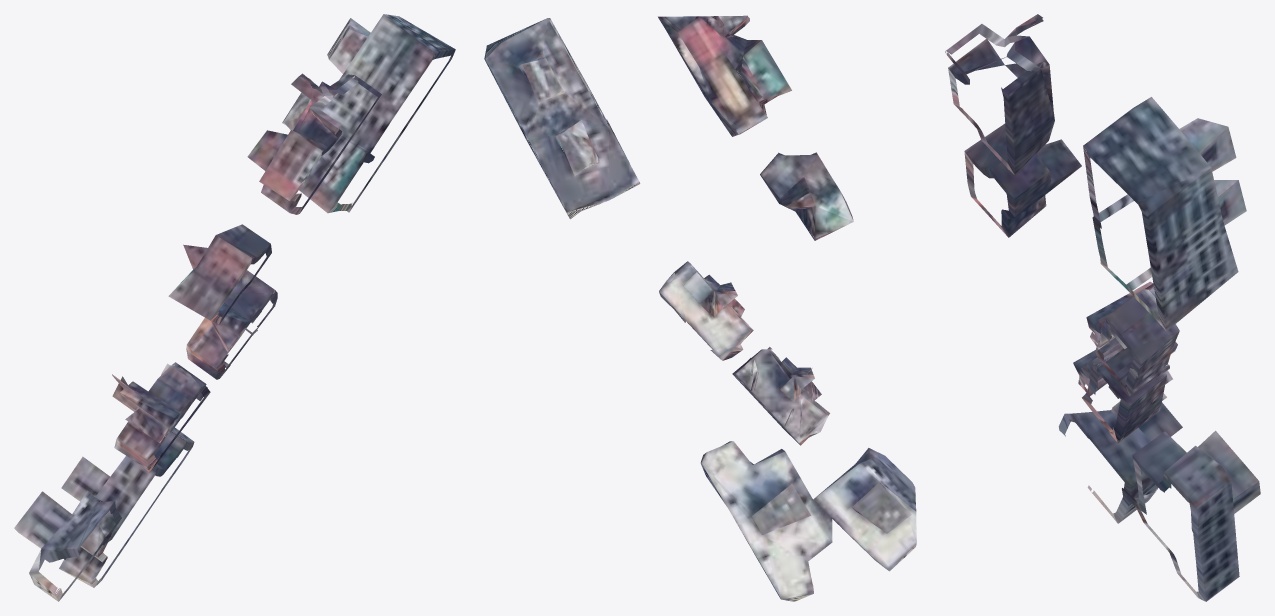
The picture shows the model from 3 angles, left to right: view 1: azimuth 30°, elevation 25°; view 2: azimuth 150°, elevation 25°; view 3: azimuth 270°, elevation 25°; orthographic projection. The views are drawn at different scales.
Bounding box in the file's own units: 113 × 128 × 54.23.
1 material, 1 textured.
